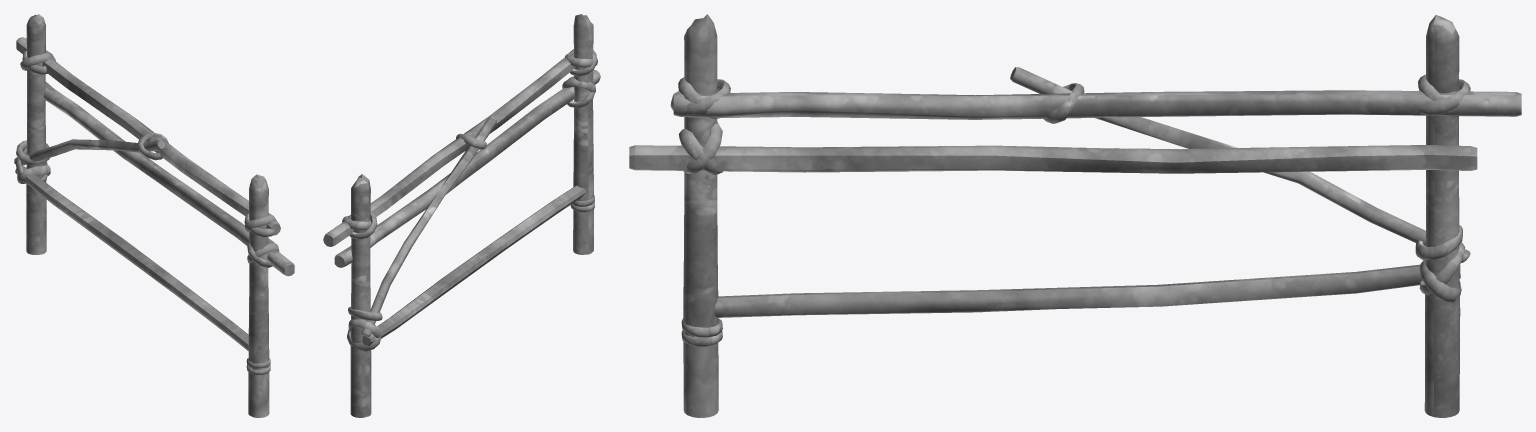
Rendered from SM_Fence_01a.fbx.
3 views of the same model, side by side, from view 1: azimuth 30°, elevation 25°; view 2: azimuth 150°, elevation 25°; view 3: azimuth 270°, elevation 25° (orthographic). The views are drawn at different scales.
Parts seen in each view (by area): view 1: SM_Fence_01a_LOD0; view 2: SM_Fence_01a_LOD0; view 3: SM_Fence_01a_LOD0.
Boxes of the visible parts, x1,y1,x2,y2 form: SM_Fence_01a_LOD0: (14, 14, 294, 417); SM_Fence_01a_LOD0: (323, 14, 600, 417); SM_Fence_01a_LOD0: (629, 14, 1521, 417).
Bounding box in the file's own units: 29.73 × 353 × 173.
